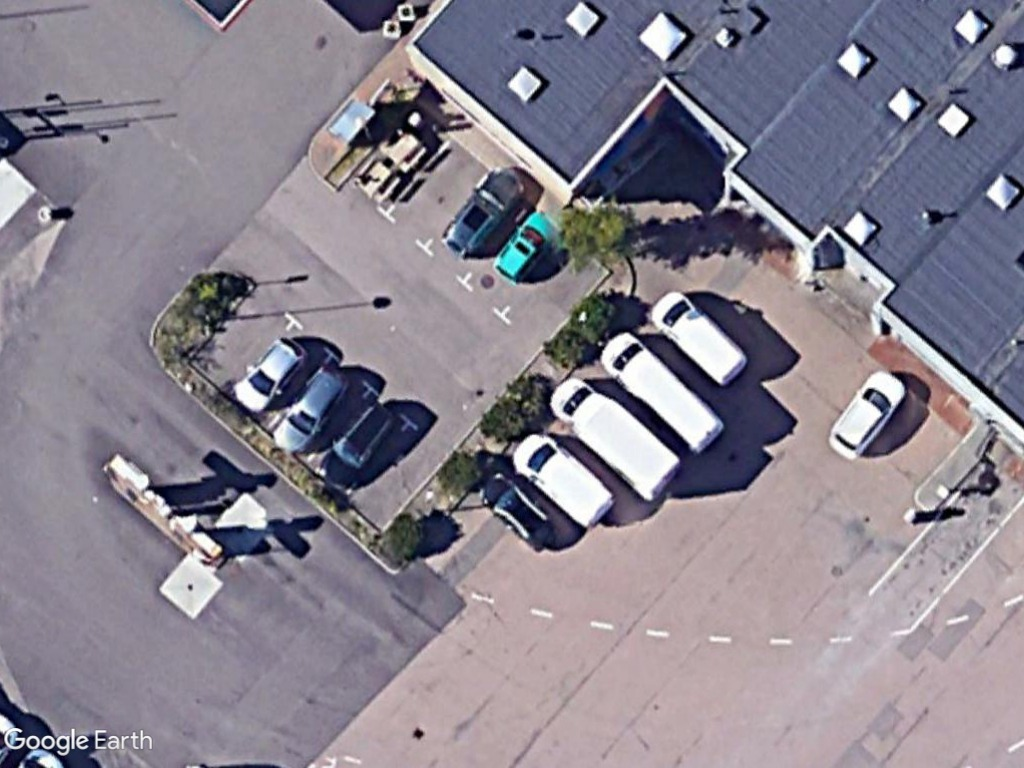car: (823, 366, 908, 463), (272, 359, 352, 461), (444, 163, 524, 263), (479, 466, 564, 559), (230, 329, 313, 420)
van: (541, 373, 686, 506), (600, 332, 731, 458), (645, 285, 750, 391), (511, 426, 614, 531)
